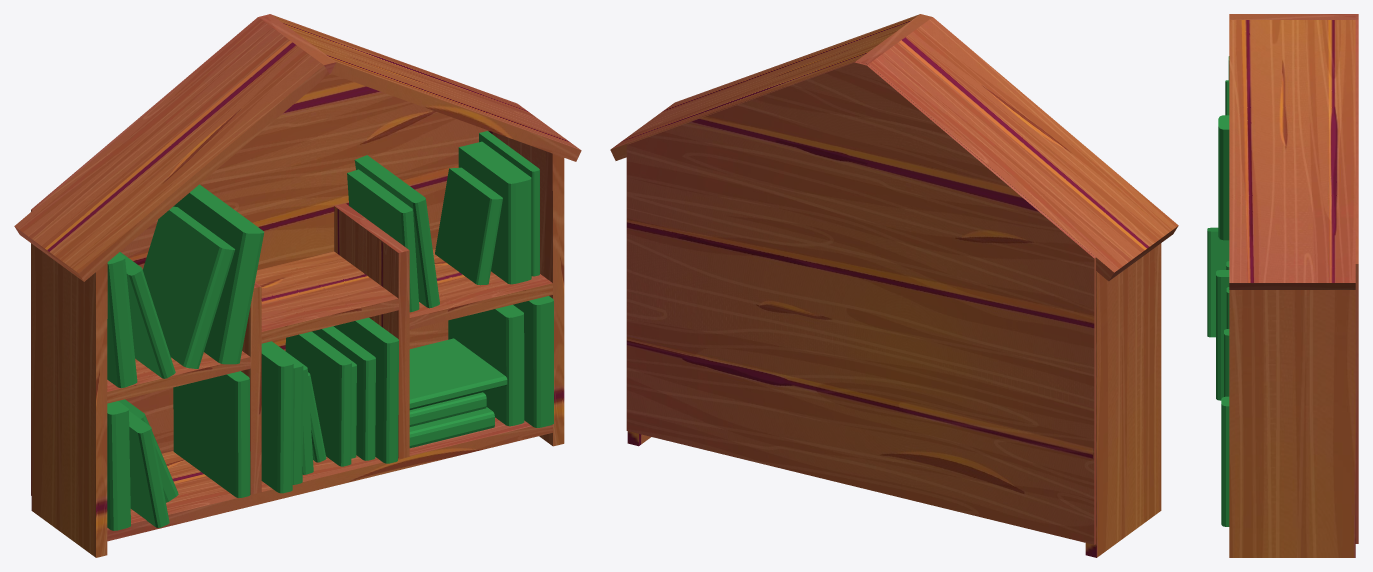
The model's file is bibliotheque.fbx.
3 renders of one model, left to right at view 1: azimuth 30°, elevation 25°; view 2: azimuth 150°, elevation 25°; view 3: azimuth 270°, elevation 25°, orthographic. The views are drawn at different scales.
Parts seen in each view (by area): view 1: Toit, Fond, Cotes, Livre.002, Separations, Bas, EtagereMilieu, Livre.007, Etageres, Livre.003, Livre.027, Livre.026 (+20 smaller); view 2: Fond, Toit, Cotes; view 3: Toit, Cotes, Fond, Livre.003, Livre.005, Livre.009, Livre.019, Livre.013.
Boxes of the visible parts, left/top/right/bottom form: Toit: left=14, top=15, right=581, bottom=281; Fond: left=31, top=14, right=488, bottom=495; Cotes: left=31, top=130, right=564, bottom=557; Livre.002: left=143, top=206, right=234, bottom=368; Separations: left=241, top=203, right=409, bottom=494; Bas: left=107, top=417, right=552, bottom=541; EtagereMilieu: left=255, top=251, right=398, bottom=343; Livre.007: left=173, top=371, right=250, bottom=497; Etageres: left=107, top=249, right=552, bottom=403; Livre.003: left=173, top=184, right=264, bottom=364; Livre.027: left=435, top=167, right=502, bottom=285; Livre.026: left=458, top=141, right=531, bottom=284; Fond: left=626, top=61, right=1095, bottom=544; Toit: left=610, top=14, right=1178, bottom=281; Cotes: left=627, top=243, right=1161, bottom=557; Toit: left=1229, top=14, right=1355, bottom=289; Cotes: left=1229, top=290, right=1355, bottom=557; Fond: left=1355, top=14, right=1358, bottom=543; Livre.003: left=1218, top=115, right=1229, bottom=240; Livre.005: left=1207, top=227, right=1229, bottom=337; Livre.009: left=1216, top=270, right=1229, bottom=400; Livre.019: left=1221, top=396, right=1229, bottom=526; Livre.013: left=1224, top=329, right=1229, bottom=396.
Size of the model in its own units: 903 by 750 by 240.
Materials: 2 (1 with a texture image).
